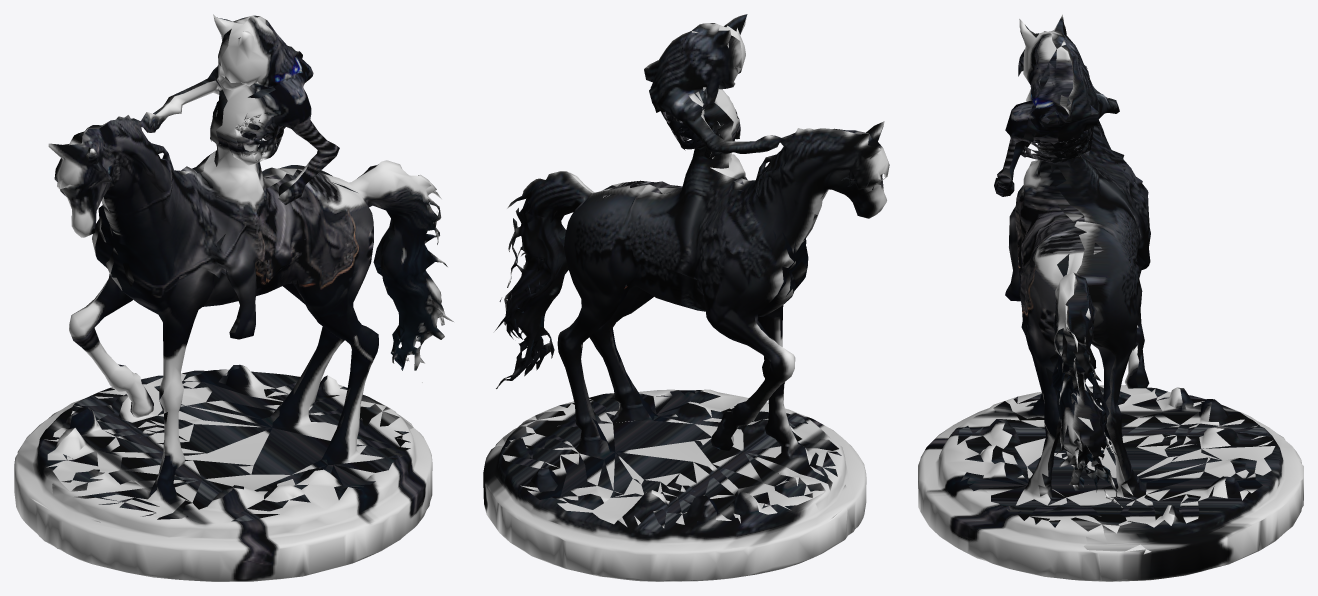
The picture shows the model from 3 angles, left to right: view 1: azimuth 30°, elevation 25°; view 2: azimuth 150°, elevation 25°; view 3: azimuth 270°, elevation 25°; orthographic projection. The views are drawn at different scales.
Visible parts, largest first — view 1: Mesh_0; view 2: Mesh_0; view 3: Mesh_0.
Part boxes in pixels (bbox=[...]): Mesh_0: bbox=[14, 14, 453, 581]; Mesh_0: bbox=[483, 14, 889, 581]; Mesh_0: bbox=[918, 14, 1303, 581].
Bounding box in the file's own units: 0.8309 × 1 × 0.7422.
1 material, 1 textured.
